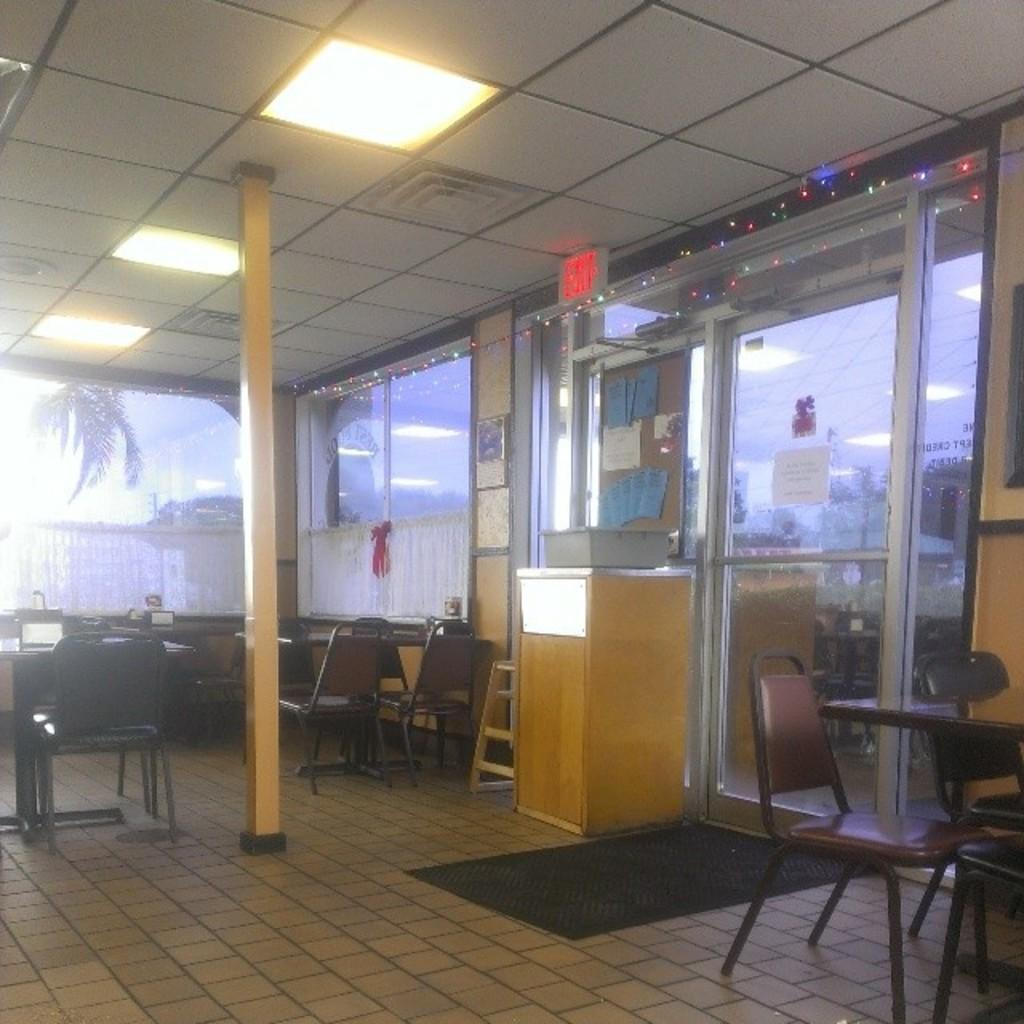door: (731, 316, 871, 800)
